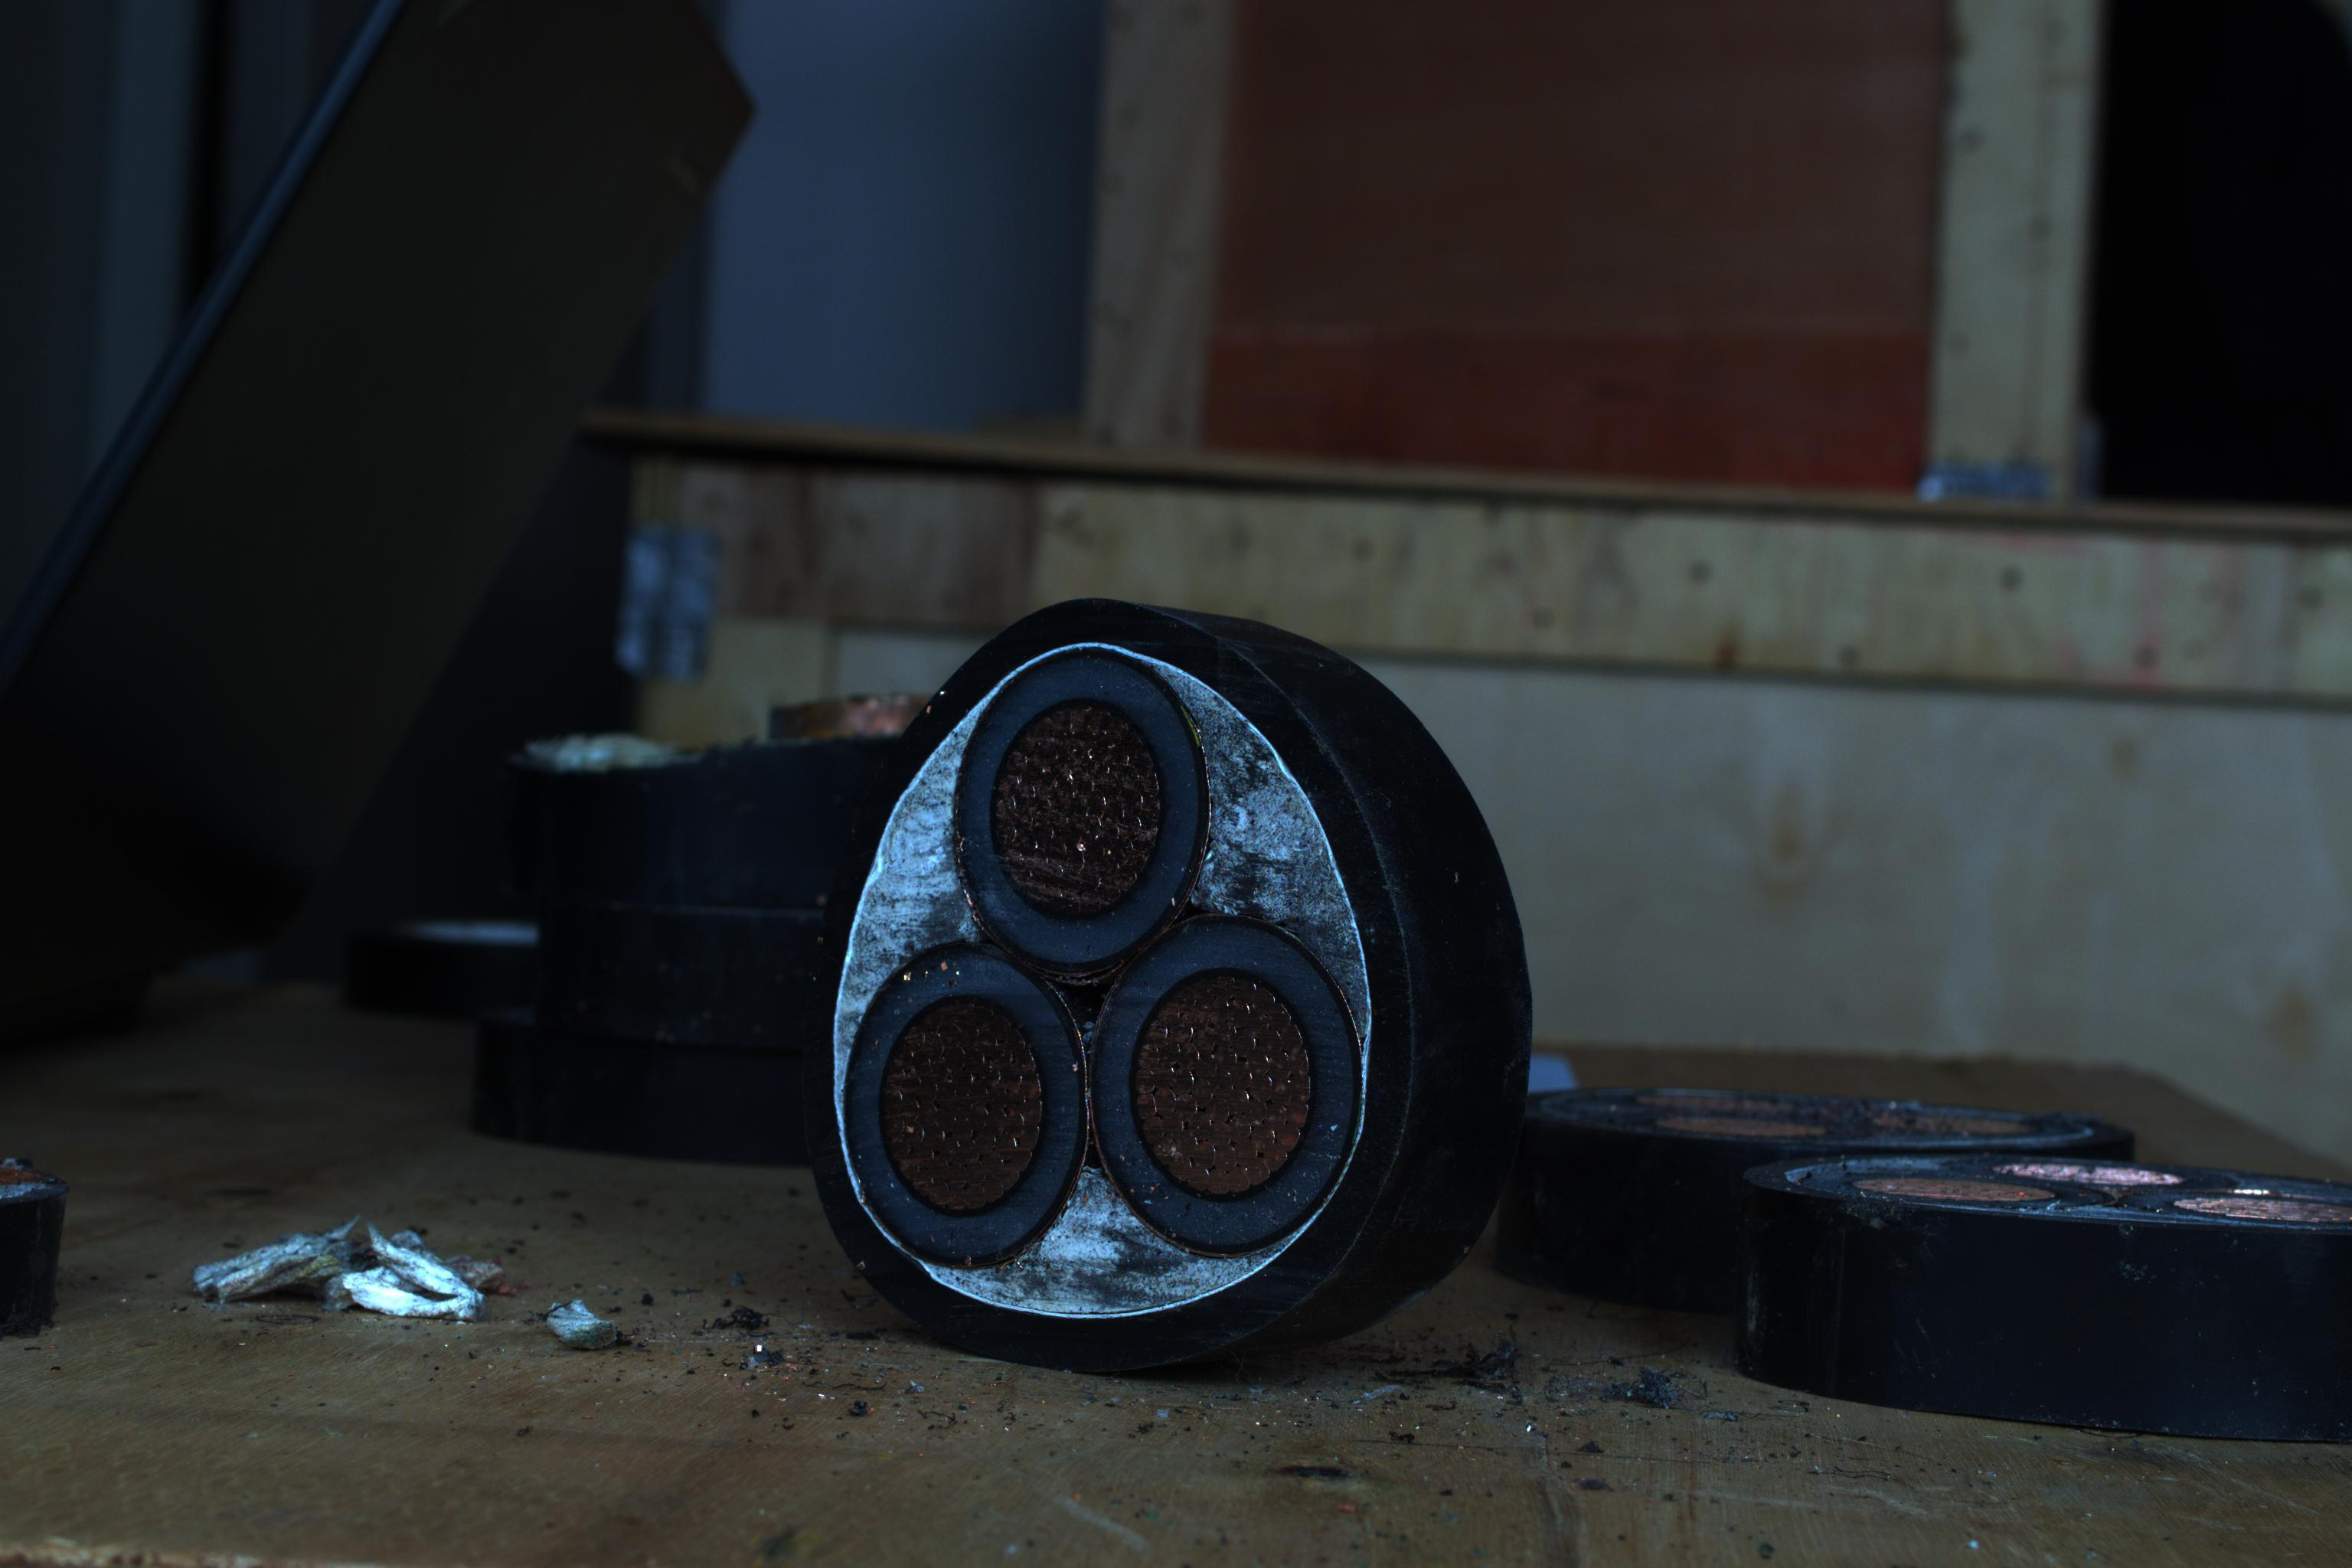ZA_YJV_8.7_10kV_3x400: (833, 607, 1405, 1370)
